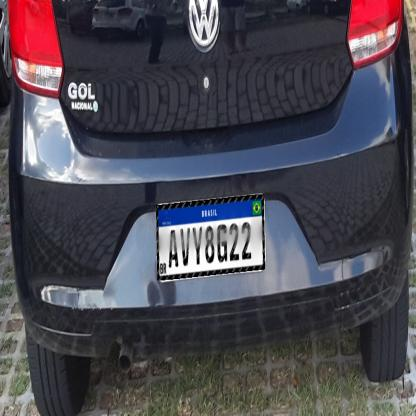PlacaM: (156, 195, 265, 280)
